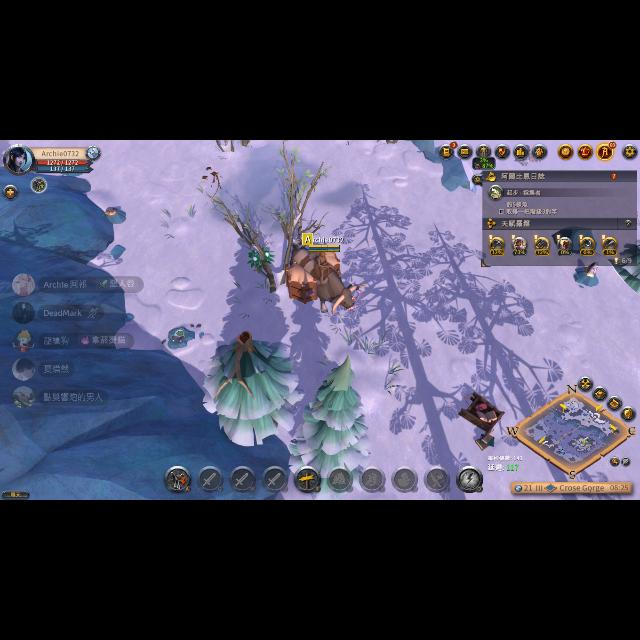mine_ii: (580, 264, 604, 288)
mine_iii: (100, 207, 126, 225)
out_mine: (166, 324, 196, 348)
